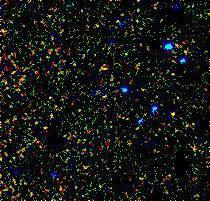star: (159, 96, 189, 126)
